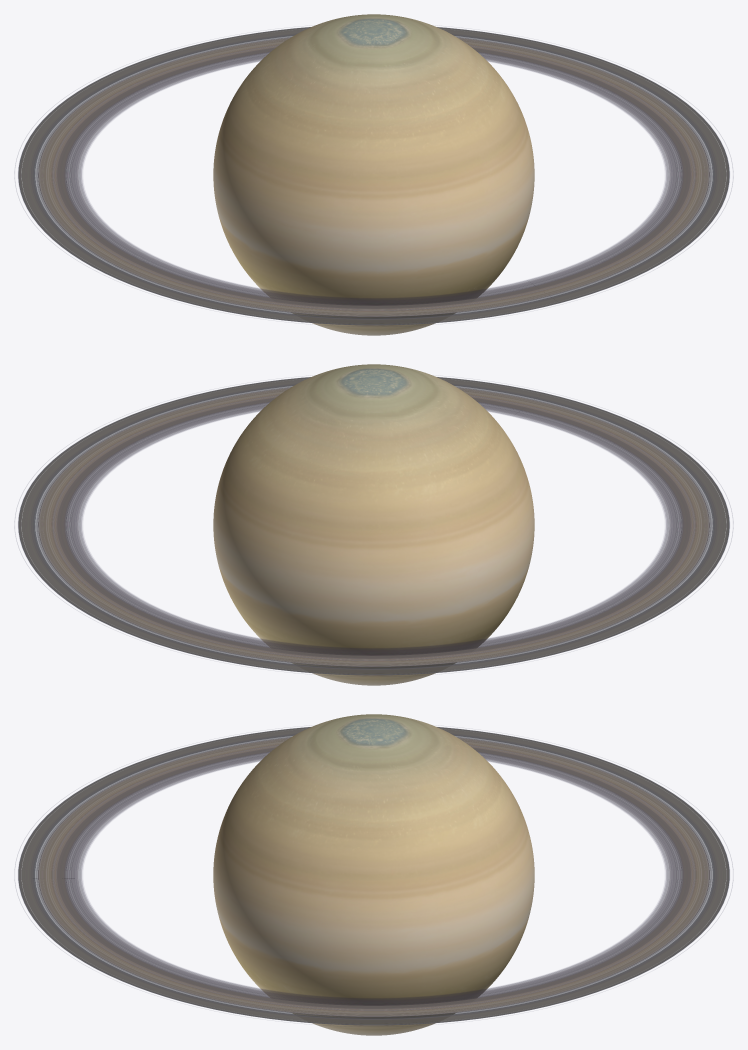
Rendered from saturn.glb.
3 views of the same model, one above another, from view 1: azimuth 30°, elevation 25°; view 2: azimuth 150°, elevation 25°; view 3: azimuth 270°, elevation 25° (orthographic).
Parts seen in each view (by area): view 1: Base, 8k_saturn_ring_alpha; view 2: Base, 8k_saturn_ring_alpha; view 3: Base, 8k_saturn_ring_alpha.
Boxes of the visible parts, x1,y1,x2,y2 form: Base: (213, 14, 534, 335); 8k_saturn_ring_alpha: (15, 27, 732, 325); Base: (213, 364, 534, 685); 8k_saturn_ring_alpha: (18, 377, 729, 675); Base: (213, 714, 534, 1035); 8k_saturn_ring_alpha: (15, 727, 732, 1025).
Bounding box in the file's own units: 4.48 × 2 × 4.48.
Materials: 2 (2 with a texture image).
